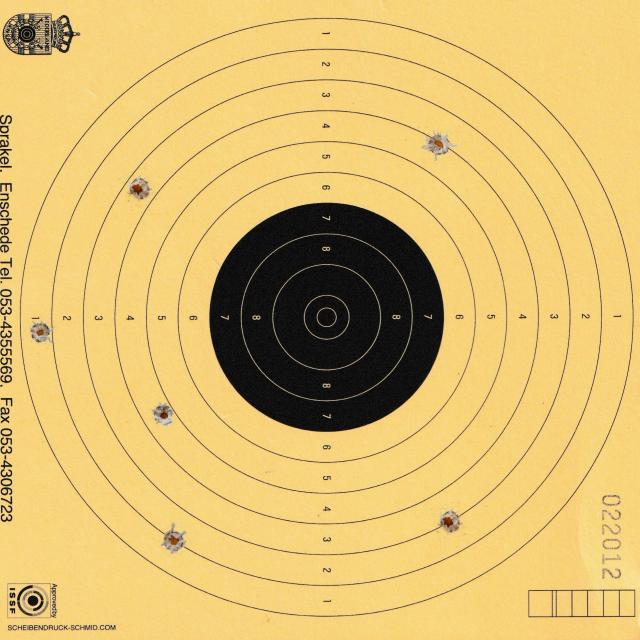2: (159, 523, 188, 554), (30, 318, 56, 344)
3: (124, 174, 154, 202), (436, 508, 463, 534)
4: (419, 130, 458, 162), (148, 401, 174, 428)
Target: (15, 17, 637, 620)
black_contour: (210, 203, 444, 433)
